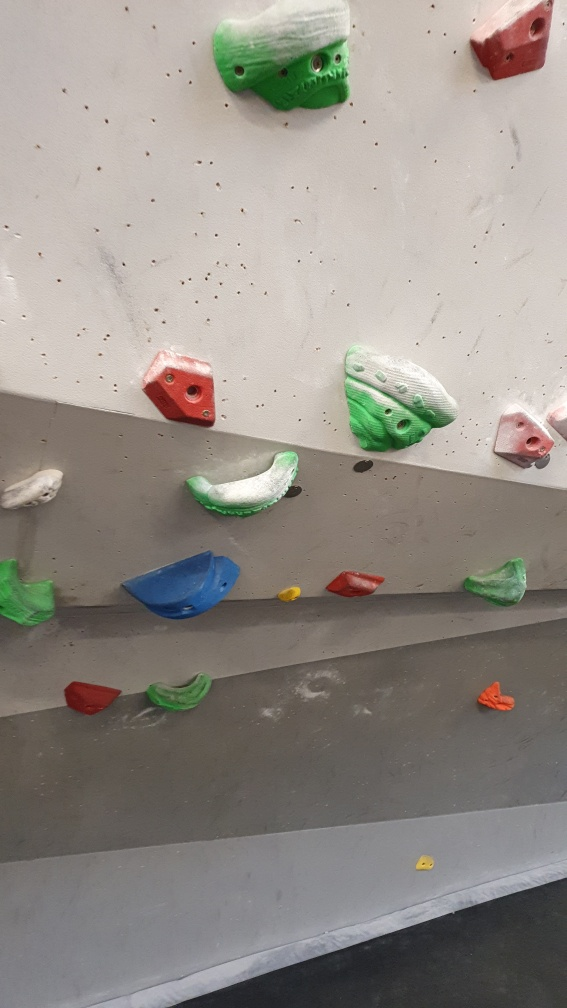Crimp: (462, 1, 564, 87), (141, 346, 219, 428), (488, 406, 560, 474), (328, 565, 388, 605)
Hand Start: (347, 452, 377, 477), (531, 446, 554, 473), (281, 481, 306, 505)
Jug: (202, 1, 361, 112), (340, 342, 460, 451), (181, 441, 302, 519), (1, 556, 67, 632), (461, 547, 536, 610), (1, 467, 77, 513), (144, 671, 215, 715)
Pinch: (117, 551, 243, 622)
